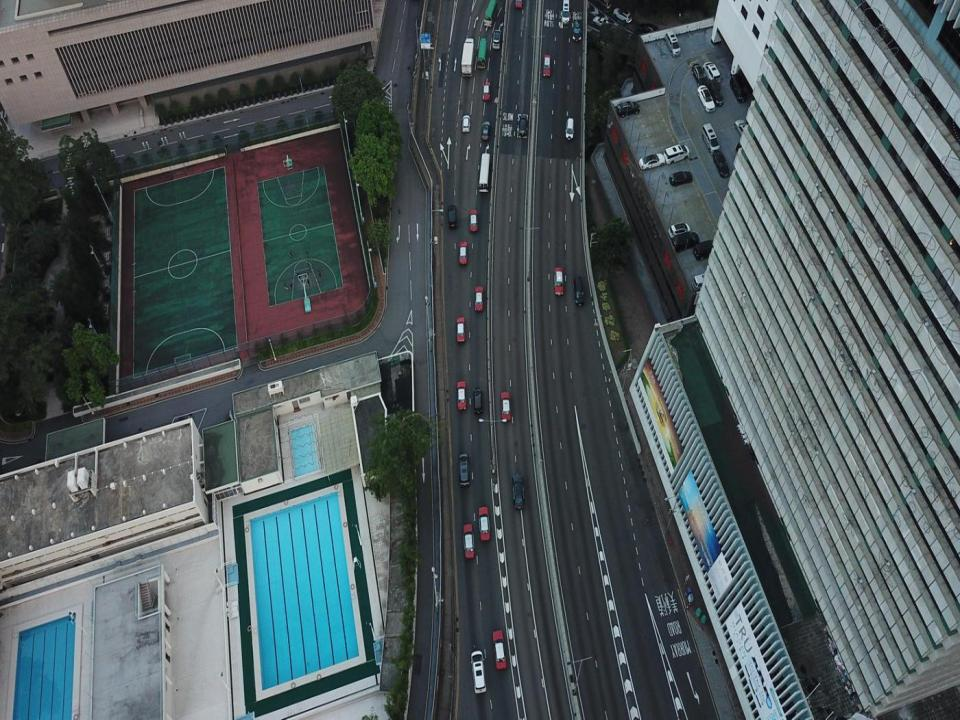bus: (478, 152, 490, 192), (483, 0, 496, 26), (477, 38, 486, 68)
car: (470, 650, 486, 694), (492, 630, 507, 670), (512, 472, 525, 511), (712, 150, 730, 178), (698, 84, 715, 112), (639, 153, 665, 171), (708, 78, 724, 107), (478, 506, 490, 542), (617, 100, 641, 118), (734, 118, 752, 140), (667, 222, 690, 239), (458, 453, 470, 485), (691, 63, 707, 87), (463, 524, 474, 558), (668, 171, 692, 186), (500, 392, 511, 421), (456, 380, 466, 411), (614, 7, 632, 23), (554, 268, 564, 295), (455, 316, 465, 343), (639, 21, 658, 35), (474, 388, 483, 416), (468, 210, 478, 232), (459, 241, 468, 264), (474, 286, 482, 311), (565, 118, 574, 140), (448, 204, 456, 228), (573, 20, 582, 41), (592, 16, 608, 27), (518, 115, 526, 136), (482, 120, 490, 140), (482, 82, 490, 100), (462, 115, 470, 133), (544, 54, 550, 77), (493, 30, 500, 48), (515, 0, 522, 8)
truck: (461, 38, 474, 77)
van: (701, 122, 720, 156), (671, 232, 699, 253), (693, 240, 717, 262), (664, 144, 690, 164), (730, 74, 746, 102), (703, 61, 720, 85), (665, 31, 680, 57), (692, 273, 710, 292), (573, 277, 584, 306), (561, 0, 570, 24)
